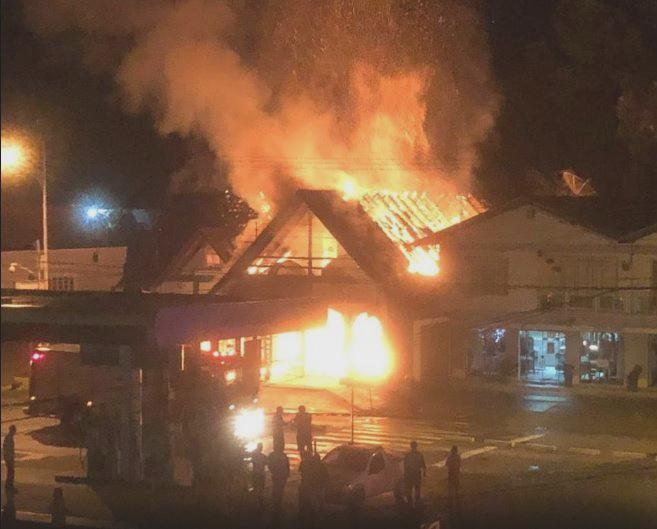Fire: (269, 307, 393, 381), (336, 175, 474, 236), (402, 239, 441, 278), (252, 252, 295, 277), (251, 189, 271, 213)
